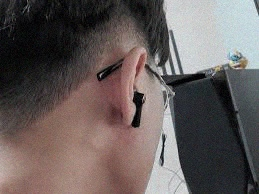earphone: (123, 47, 148, 128)
